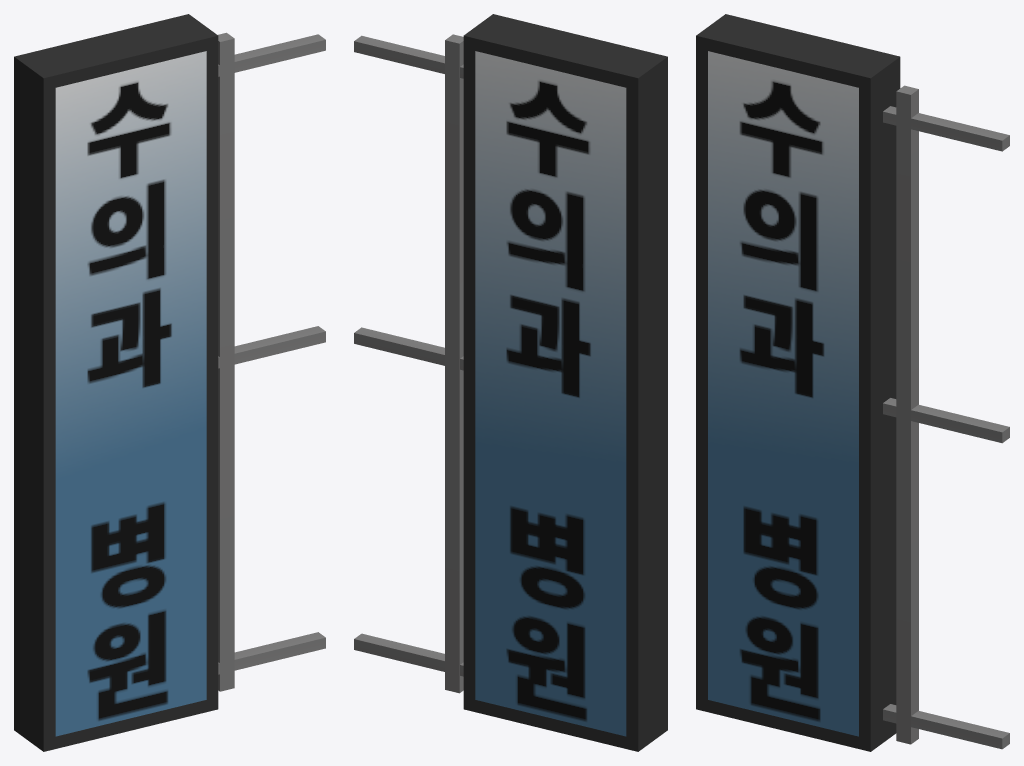
The model's file is B02_Enseigne_D_01.fbx.
The picture shows the model from 3 angles, left to right: view 1: azimuth 30°, elevation 25°; view 2: azimuth 150°, elevation 25°; view 3: azimuth 330°, elevation 25°; orthographic projection.
Visible parts, largest first — view 1: B02_Enseigne_D_01; view 2: B02_Enseigne_D_01; view 3: B02_Enseigne_D_01.
Boxes of the visible parts, x1,y1,x2,y2 form: B02_Enseigne_D_01: (14, 14, 325, 751); B02_Enseigne_D_01: (354, 14, 667, 751); B02_Enseigne_D_01: (696, 14, 1009, 751).
Bounding box in the file's own units: 313 × 685 × 54.59.
